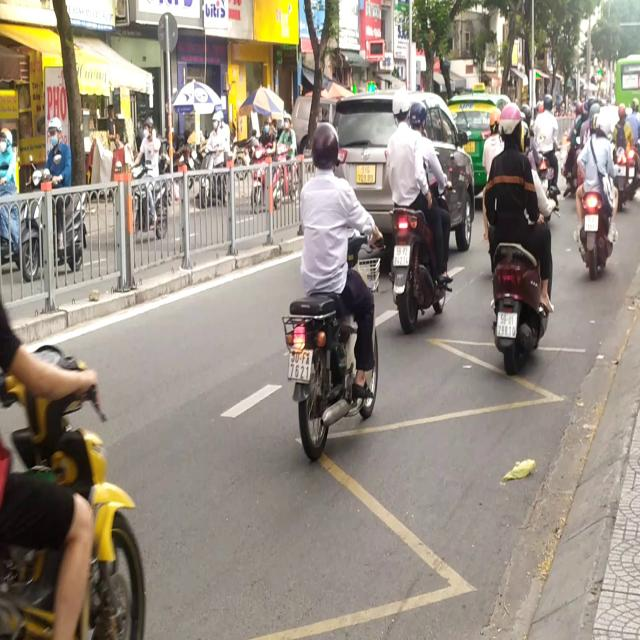bien_trang: (290, 347, 312, 383), (495, 309, 517, 340), (394, 246, 410, 263)
bien_vang: (357, 164, 375, 186)
